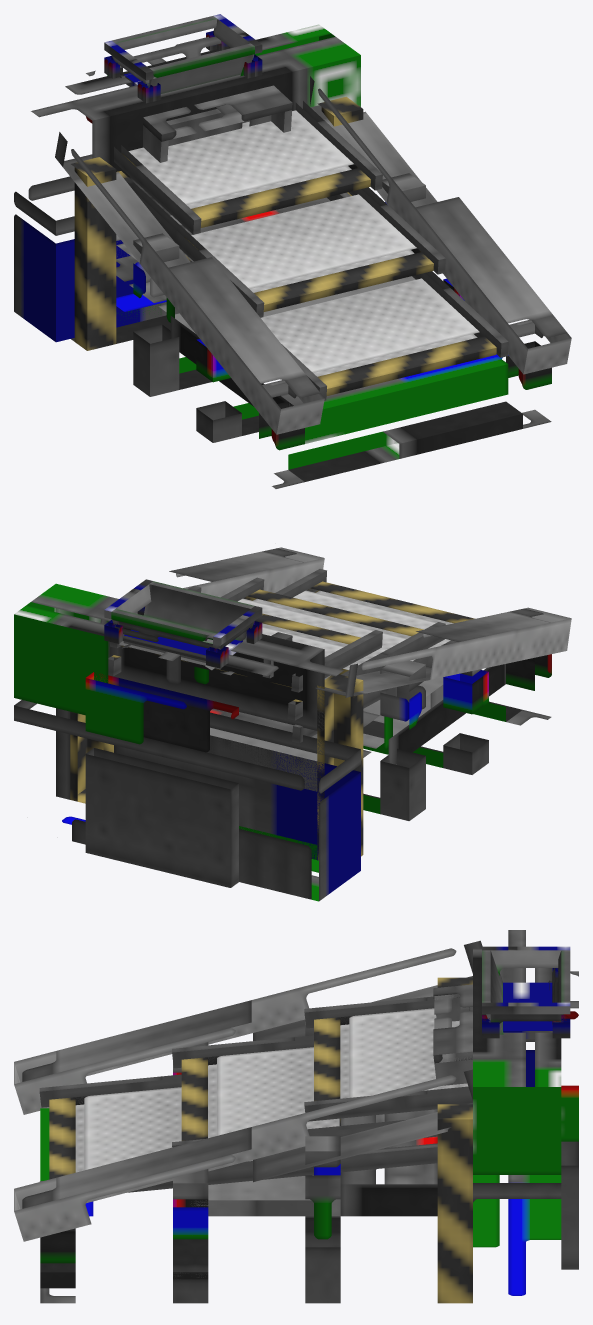
File: sifter.obj
The picture shows the model from 3 angles, top to bottom: view 1: azimuth 30°, elevation 25°; view 2: azimuth 150°, elevation 25°; view 3: azimuth 270°, elevation 25°; orthographic projection. The views are drawn at different scales.
Parts seen in each view (by area): view 1: Mesh_1, Mesh_14, Mesh_2, Mesh_4, Mesh_3, Mesh_11, Mesh_51, Mesh_40, Mesh_47, Mesh_48, Mesh_36, Mesh_49 (+18 smaller); view 2: Mesh_1, Mesh_35, Mesh_14, Mesh_48, Mesh_11, Mesh_56, Mesh_2, Mesh_47, Mesh_4, Mesh_49, Mesh_16, Mesh_51 (+17 smaller); view 3: Mesh_1, Mesh_11, Mesh_14, Mesh_2, Mesh_3, Mesh_4, Mesh_45, Mesh_56, Mesh_46, Mesh_55, Mesh_44, Mesh_35 (+18 smaller).
Boxes of the visible parts, left/top/right/bottom form: Mesh_1: left=14, top=24, right=360, bottom=342; Mesh_14: left=55, top=132, right=324, bottom=434; Mesh_2: left=184, top=194, right=433, bottom=311; Mesh_4: left=261, top=278, right=496, bottom=395; Mesh_3: left=121, top=110, right=370, bottom=227; Mesh_11: left=310, top=76, right=571, bottom=374; Mesh_51: left=116, top=293, right=508, bottom=443; Mesh_40: left=288, top=401, right=522, bottom=481; Mesh_47: left=70, top=157, right=116, bottom=350; Mesh_48: left=133, top=233, right=179, bottom=396; Mesh_36: left=143, top=85, right=292, bottom=141; Mesh_49: left=196, top=339, right=241, bottom=442; Mesh_1: left=14, top=583, right=360, bottom=901; Mesh_35: left=85, top=651, right=238, bottom=887; Mesh_14: left=315, top=607, right=571, bottom=697; Mesh_48: left=380, top=660, right=425, bottom=820; Mesh_11: left=100, top=547, right=324, bottom=624; Mesh_56: left=206, top=708, right=384, bottom=791; Mesh_2: left=238, top=589, right=423, bottom=674; Mesh_47: left=317, top=674, right=363, bottom=860; Mesh_4: left=293, top=581, right=475, bottom=661; Mesh_49: left=443, top=669, right=488, bottom=774; Mesh_16: left=143, top=584, right=250, bottom=640; Mesh_51: left=388, top=664, right=505, bottom=764; Mesh_1: left=473, top=930, right=561, bottom=1295; Mesh_11: left=14, top=1069, right=472, bottom=1241; Mesh_14: left=14, top=940, right=482, bottom=1114; Mesh_2: left=181, top=1047, right=340, bottom=1140; Mesh_3: left=314, top=1008, right=468, bottom=1101; Mesh_4: left=49, top=1087, right=181, bottom=1179; Mesh_45: left=437, top=1104, right=472, bottom=1303; Mesh_56: left=331, top=1109, right=437, bottom=1216; Mesh_46: left=305, top=1136, right=340, bottom=1303; Mesh_55: left=191, top=1160, right=313, bottom=1216; Mesh_44: left=173, top=1169, right=208, bottom=1303; Mesh_35: left=561, top=971, right=578, bottom=1269.
Bounding box in the file's own units: 2.62 × 2 × 4.
